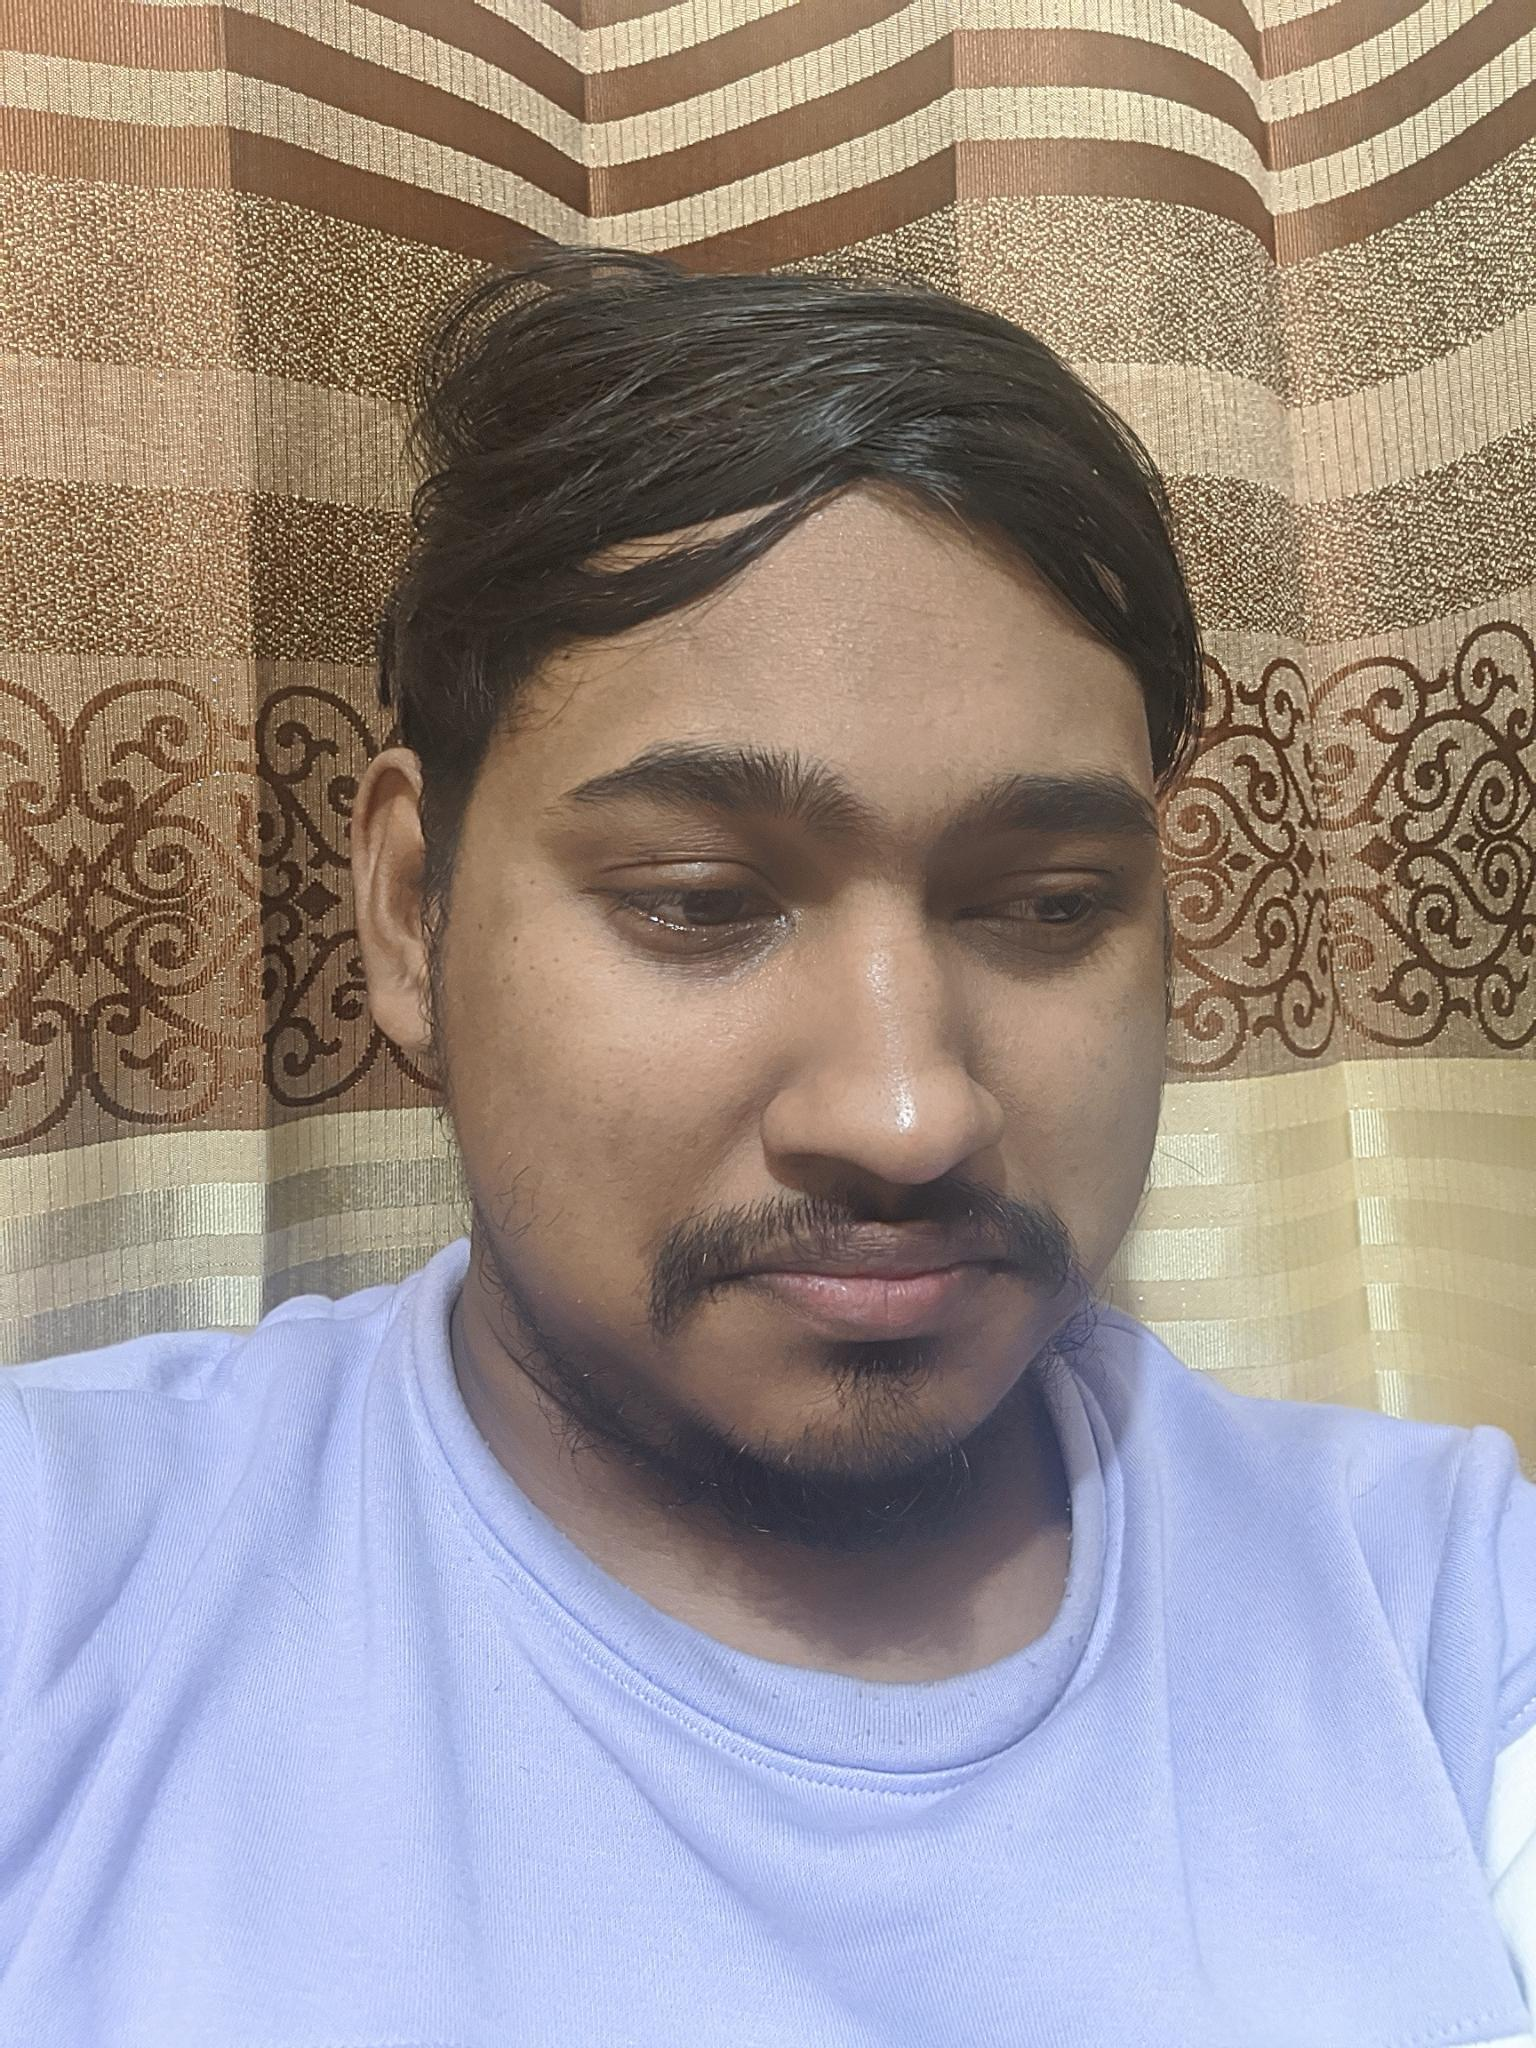Sad: (544, 664, 1200, 1496)
